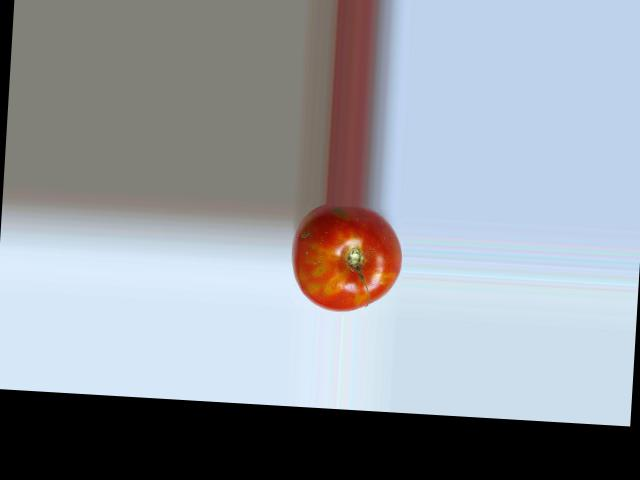tomato: (289, 202, 404, 314)
